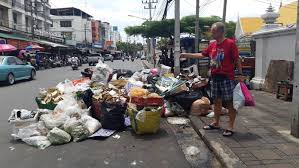garbage: (83, 67, 181, 126), (35, 92, 82, 147), (183, 75, 210, 114)
